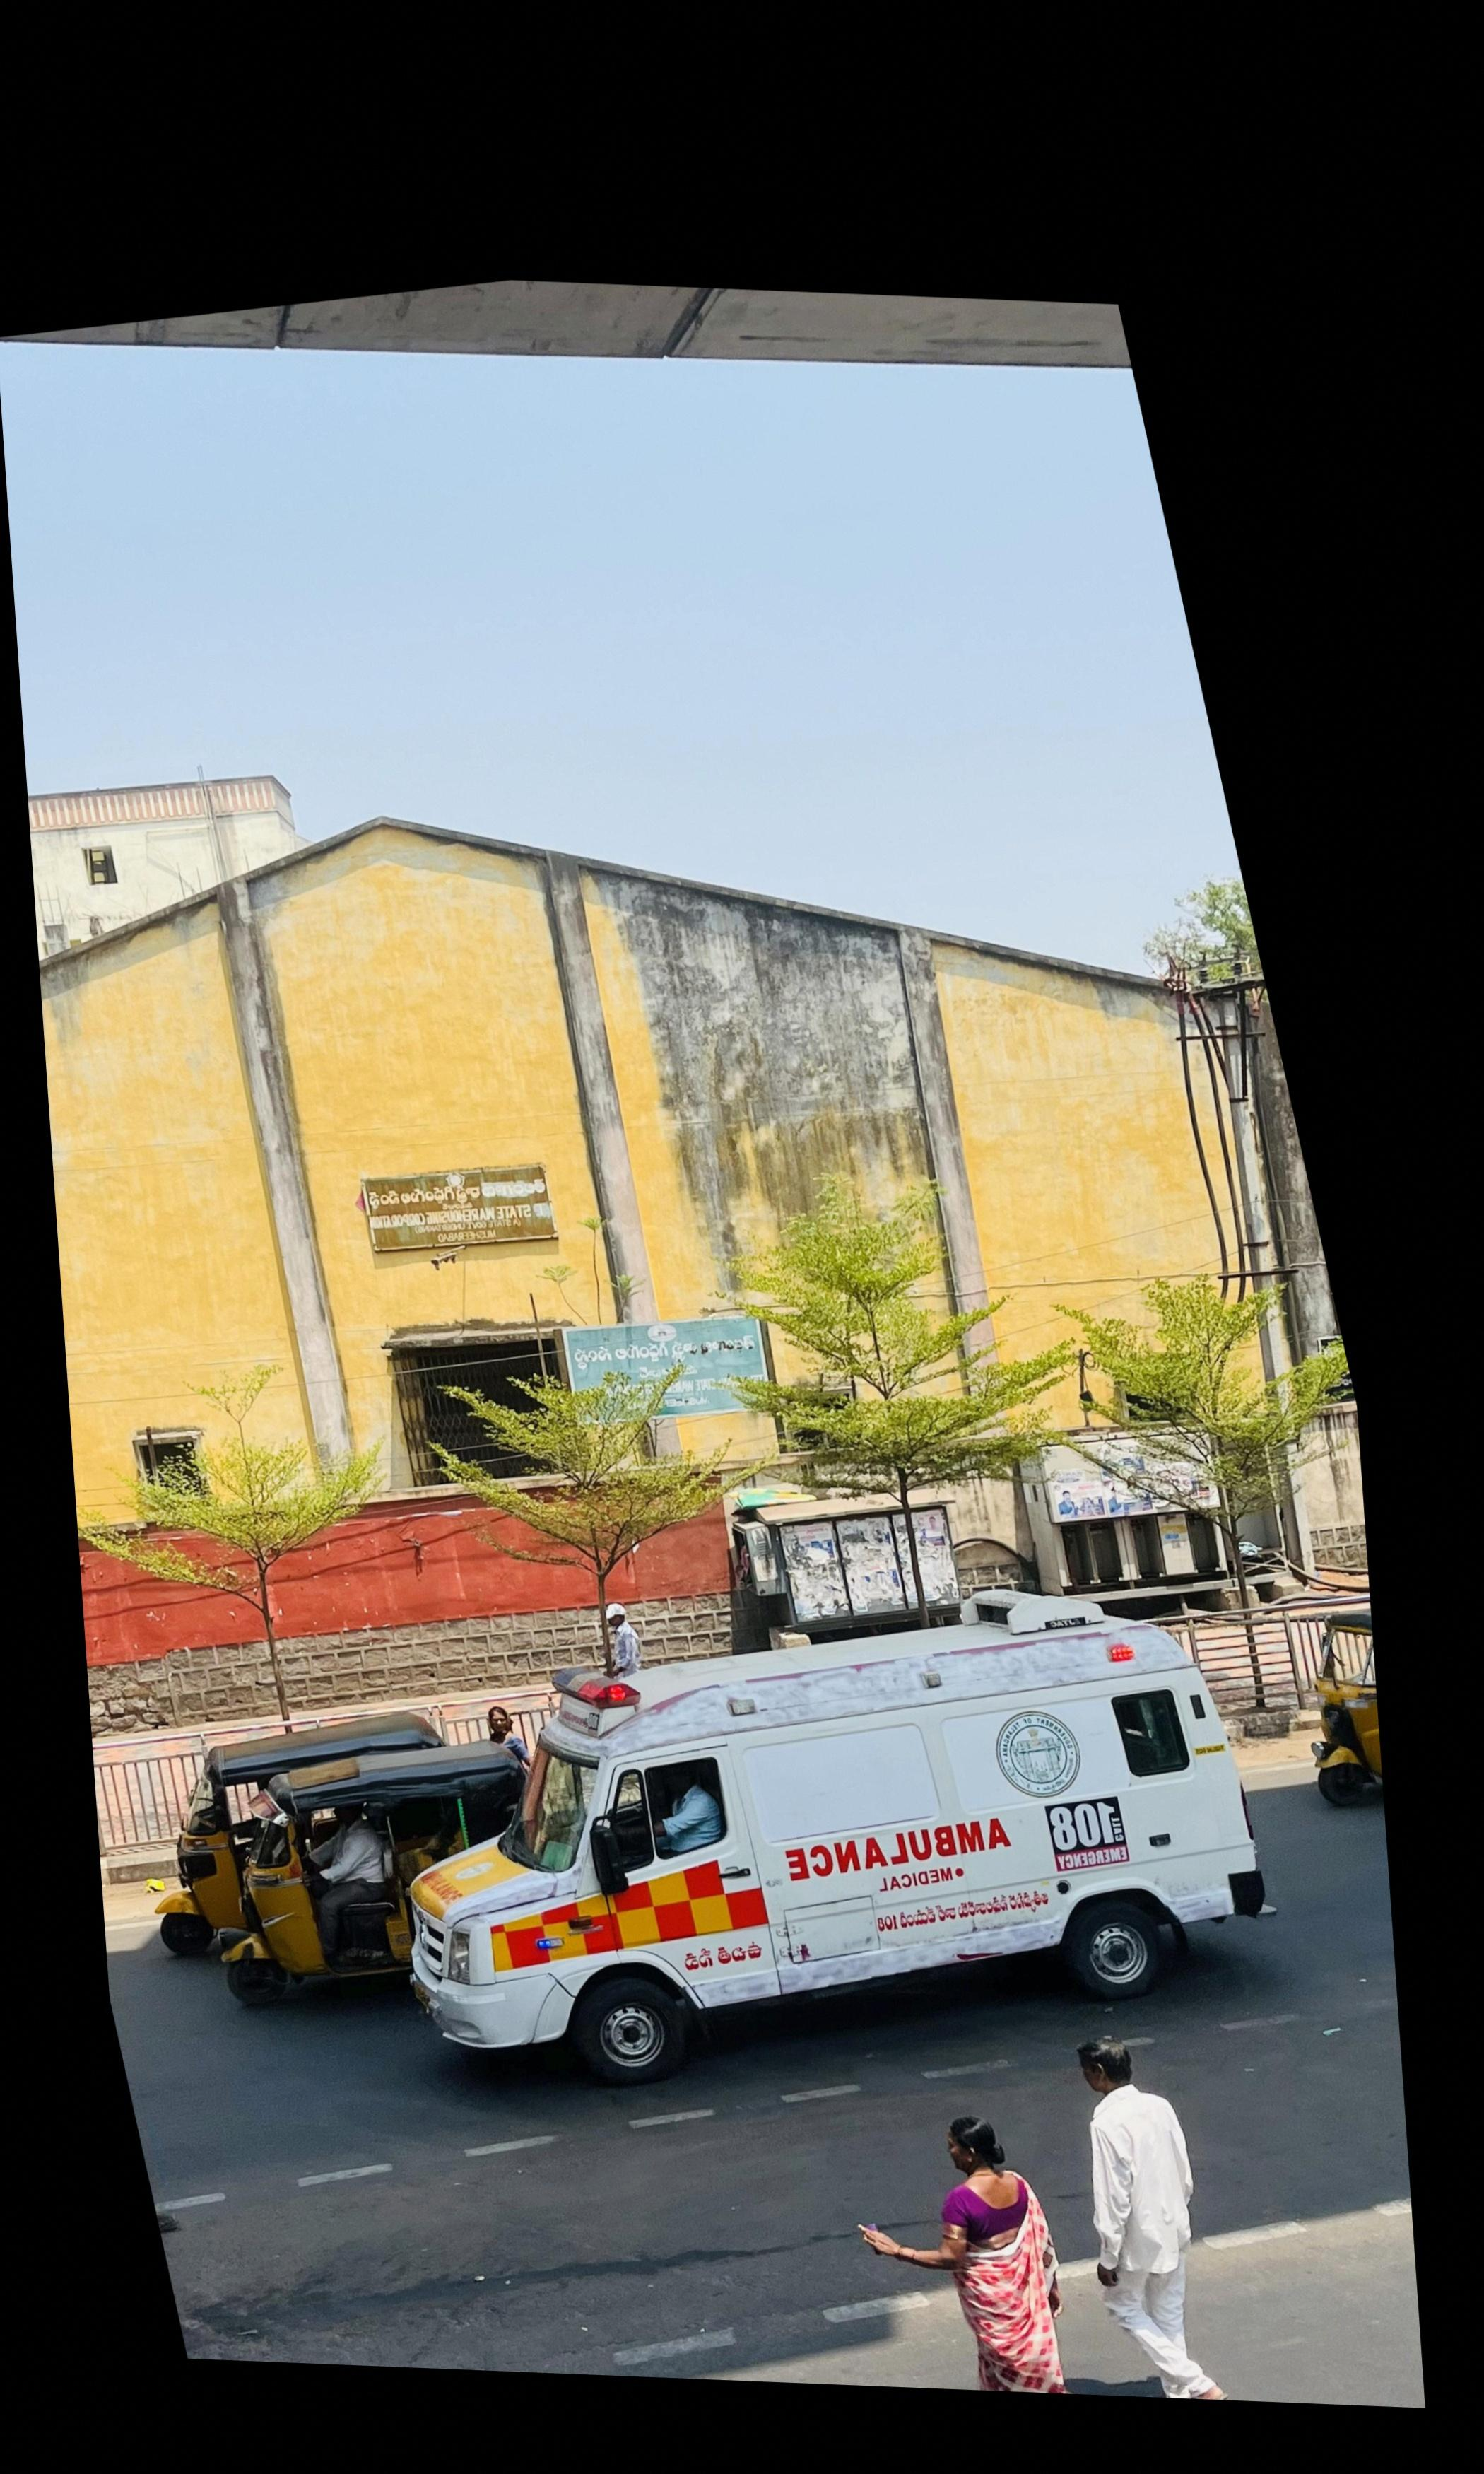ambulance: (408, 1585, 1274, 2075)
